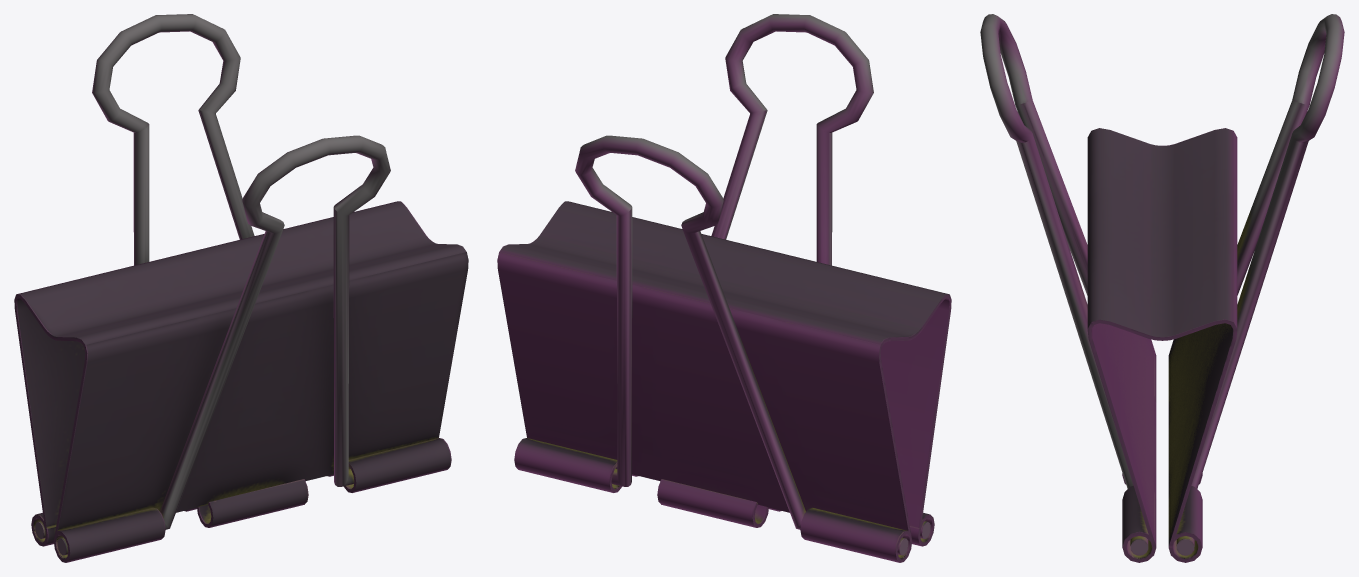
File: Crocodile Clip.fbx
3 views of the same model, side by side, from view 1: azimuth 30°, elevation 25°; view 2: azimuth 150°, elevation 25°; view 3: azimuth 270°, elevation 25° (orthographic). The views are drawn at different scales.
Visible parts, largest first — view 1: Crocodile Clip; view 2: Crocodile Clip; view 3: Crocodile Clip.
Boxes of the visible parts, x1,y1,x2,y2 form: Crocodile Clip: (14, 14, 468, 562); Crocodile Clip: (497, 14, 951, 562); Crocodile Clip: (980, 14, 1344, 562).
Bounding box in the file's own units: 4.65 × 5.01 × 3.74.
